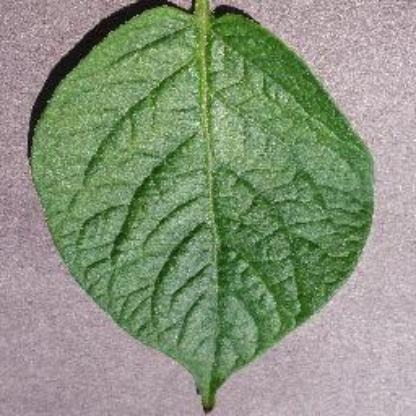Healthy-plant: (26, 2, 382, 410)
